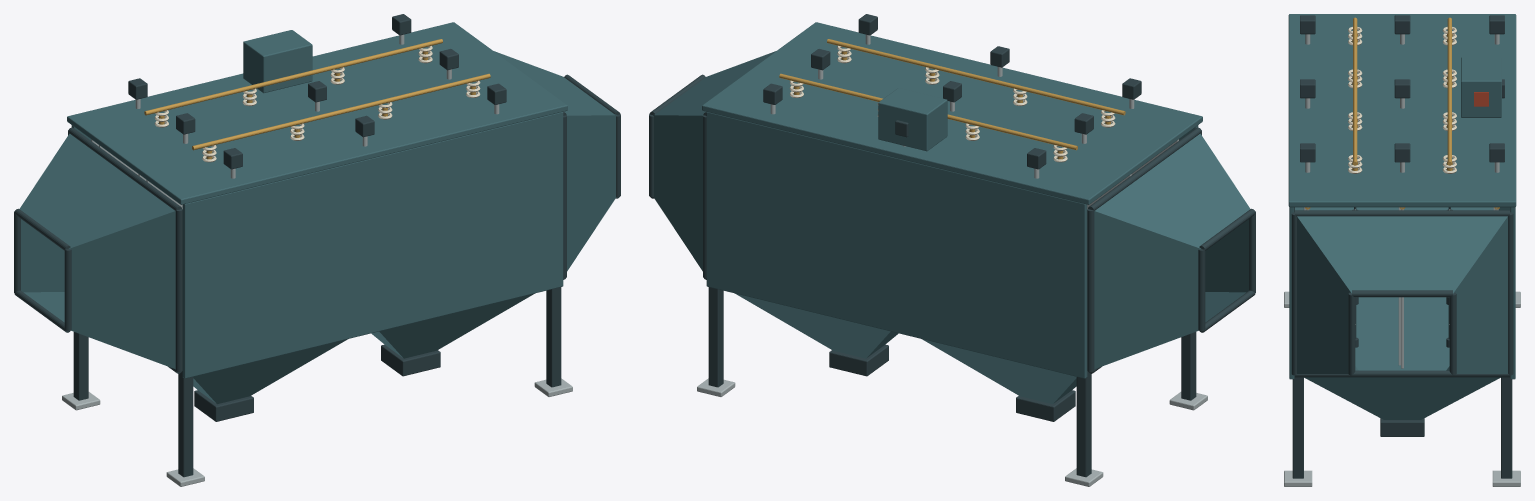
File: esp.glb
3 views of the same model, side by side, from view 1: azimuth 30°, elevation 25°; view 2: azimuth 150°, elevation 25°; view 3: azimuth 270°, elevation 25° (orthographic).
Visible parts, largest first — view 1: front_casing, roof, inlet_duct, outlet_duct, dust_hopper.001, transformer_rectifier, dust_hopper, support_leg.001, support_leg.003, high_voltage_bus, high_voltage_bus.001, inlet_duct_flange.001 (+6 smaller); view 2: rear_casing, roof, inlet_duct, outlet_duct, transformer_rectifier, dust_hopper.001, dust_hopper, support_leg, support_leg.002, high_voltage_bus.001, inlet_duct_flange.003, high_voltage_bus (+6 smaller); view 3: roof, outlet_duct, dust_hopper.001, transformer_rectifier, outlet_duct_flange.002, support_leg.002, support_leg.003, outlet_duct_flange.001, outlet_duct_flange.003, outlet_duct_flange.006, outlet_duct_flange.004, discharge_valve.001 (+18 smaller).
Part boxes in pixels (x1,y1,x2,y2): front_casing: (182, 112, 563, 378); roof: (67, 22, 567, 204); inlet_duct: (19, 133, 175, 369); outlet_duct: (494, 51, 616, 271); dust_hopper.001: (371, 293, 534, 358); transformer_rectifier: (243, 30, 312, 93); dust_hopper: (193, 339, 347, 404); support_leg.001: (178, 371, 193, 477); support_leg.003: (546, 287, 561, 387); high_voltage_bus: (144, 39, 442, 115); high_voltage_bus.001: (192, 73, 490, 150); inlet_duct_flange.001: (175, 209, 182, 371); rear_casing: (706, 112, 1087, 378); roof: (702, 22, 1202, 204); inlet_duct: (1094, 133, 1250, 369); outlet_duct: (653, 51, 775, 271); transformer_rectifier: (878, 88, 947, 151); dust_hopper.001: (735, 293, 898, 358); dust_hopper: (922, 339, 1076, 404); support_leg: (1076, 371, 1091, 477); support_leg.002: (708, 287, 723, 387); high_voltage_bus.001: (827, 39, 1125, 115); inlet_duct_flange.003: (1087, 209, 1094, 371); high_voltage_bus: (779, 73, 1077, 150); roof: (1288, 14, 1516, 207); outlet_duct: (1297, 216, 1507, 373); dust_hopper.001: (1304, 297, 1500, 419); transformer_rectifier: (1461, 57, 1501, 117); outlet_duct_flange.002: (1295, 210, 1509, 216); support_leg.002: (1501, 375, 1512, 478); support_leg.003: (1292, 375, 1303, 478); outlet_duct_flange.001: (1291, 212, 1296, 375); outlet_duct_flange.003: (1508, 212, 1513, 375); outlet_duct_flange.006: (1352, 290, 1452, 297); outlet_duct_flange.004: (1352, 370, 1452, 377); discharge_valve.001: (1380, 418, 1424, 436).
Bounding box in the file's own units: 10.11 × 5.64 × 3.75.
